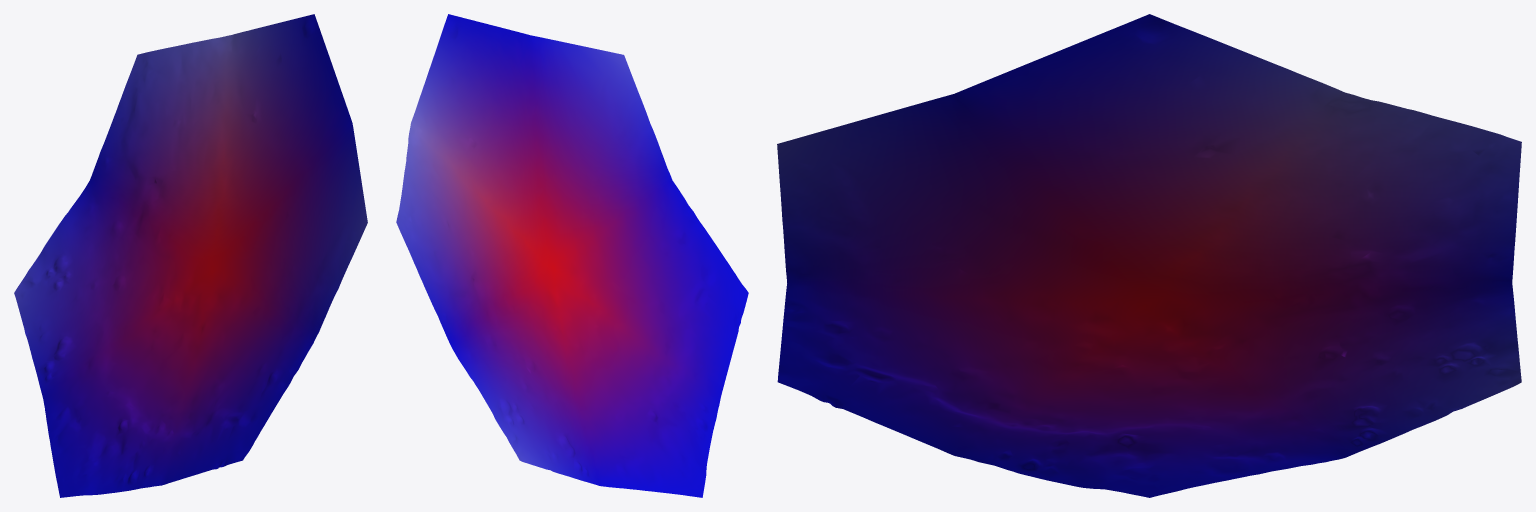
File: Hex_28.fbx
3 views of the same model, side by side, from view 1: azimuth 30°, elevation 25°; view 2: azimuth 150°, elevation 25°; view 3: azimuth 270°, elevation 25° (orthographic). The views are drawn at different scales.
Parts seen in each view (by area): view 1: Hex_28; view 2: Hex_28; view 3: Hex_28.
Boxes of the visible parts, x1,y1,x2,y2 form: Hex_28: (14,14,367,497); Hex_28: (396,14,748,497); Hex_28: (777,14,1521,497).
Bounding box in the file's own units: 282 × 447 × 440.
